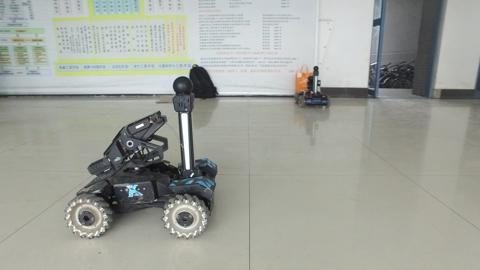bag: (179, 59, 227, 101)
chariot: (60, 72, 220, 242), (290, 60, 330, 113)
